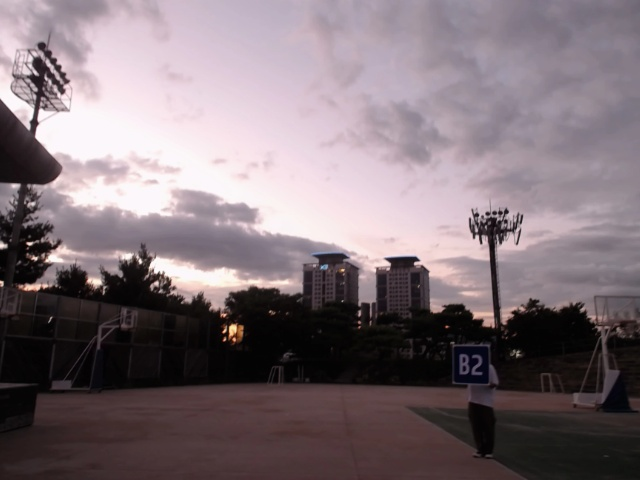delivery_b2: (452, 344, 491, 386)
